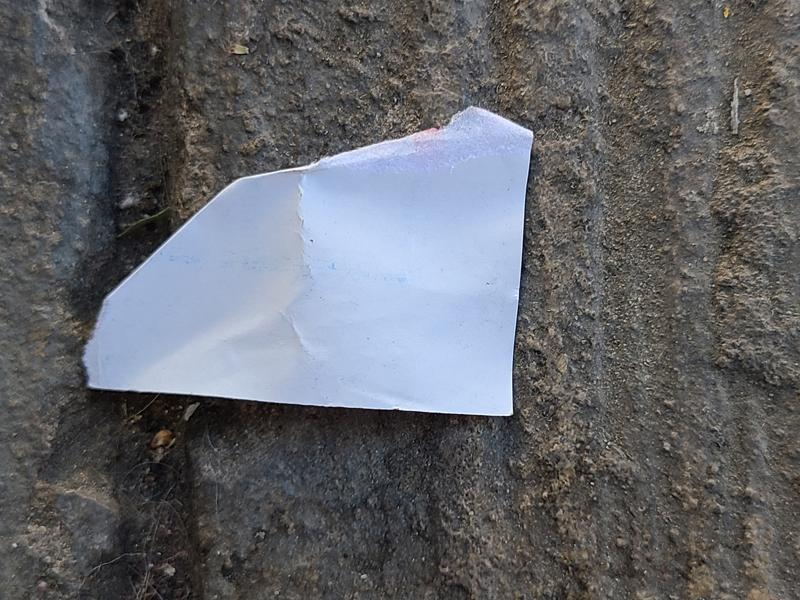papel: (80, 107, 536, 420)
